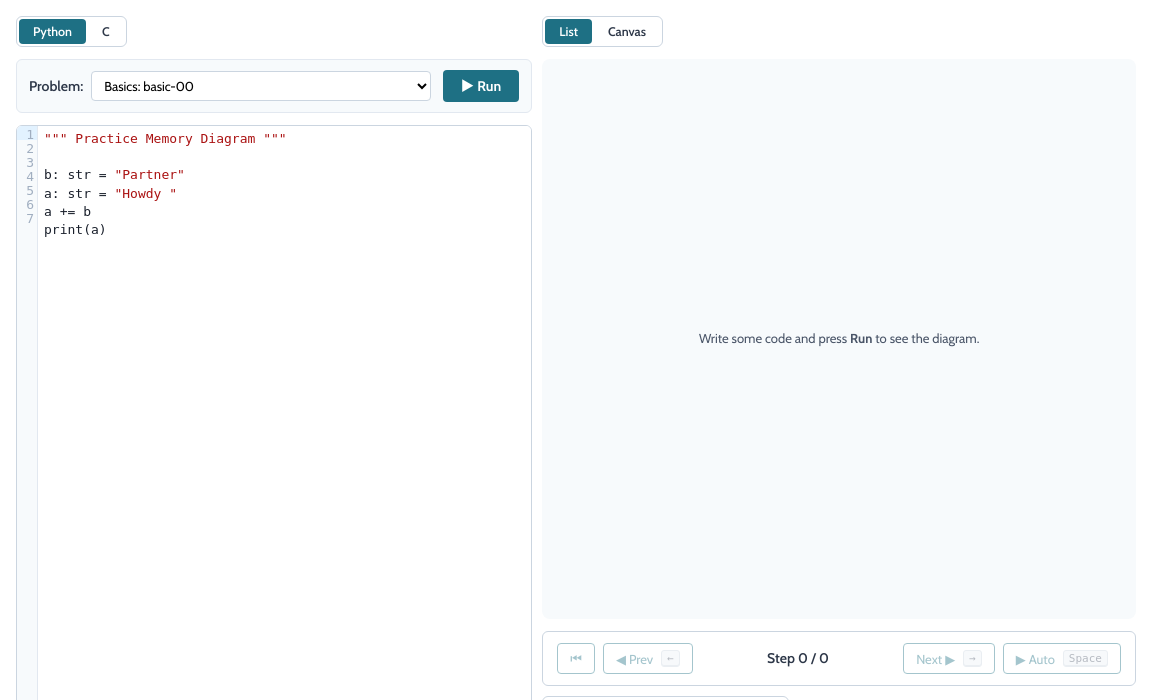
Scenario: App UX — embed mode › ?embed=1 after Run shows the diagram columns
Click the button "▶ Run" at (481, 86), box left=443, top=70, right=519, bottom=102
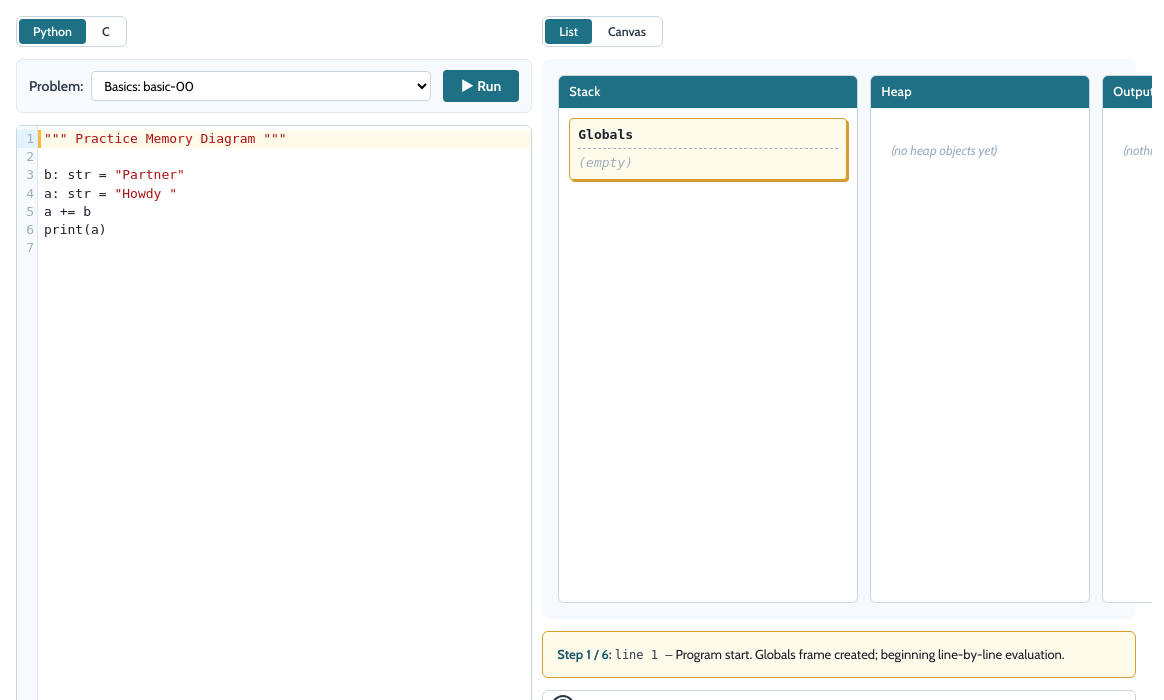
Result: the text "Stack" is shown at left=559, top=76, right=857, bottom=108
Result: the text "Heap" is shown at left=871, top=76, right=1089, bottom=108
